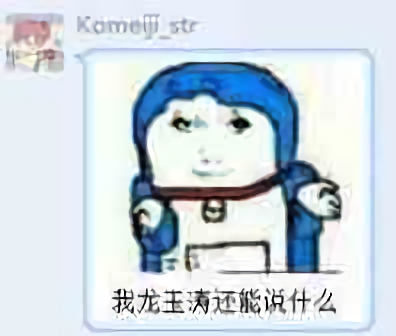dragon: (164, 107, 254, 183)
